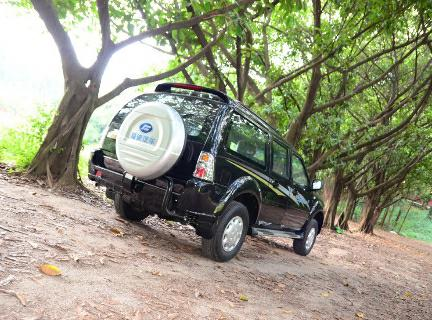福迪-探索者Ⅱ: (86, 82, 330, 265)
